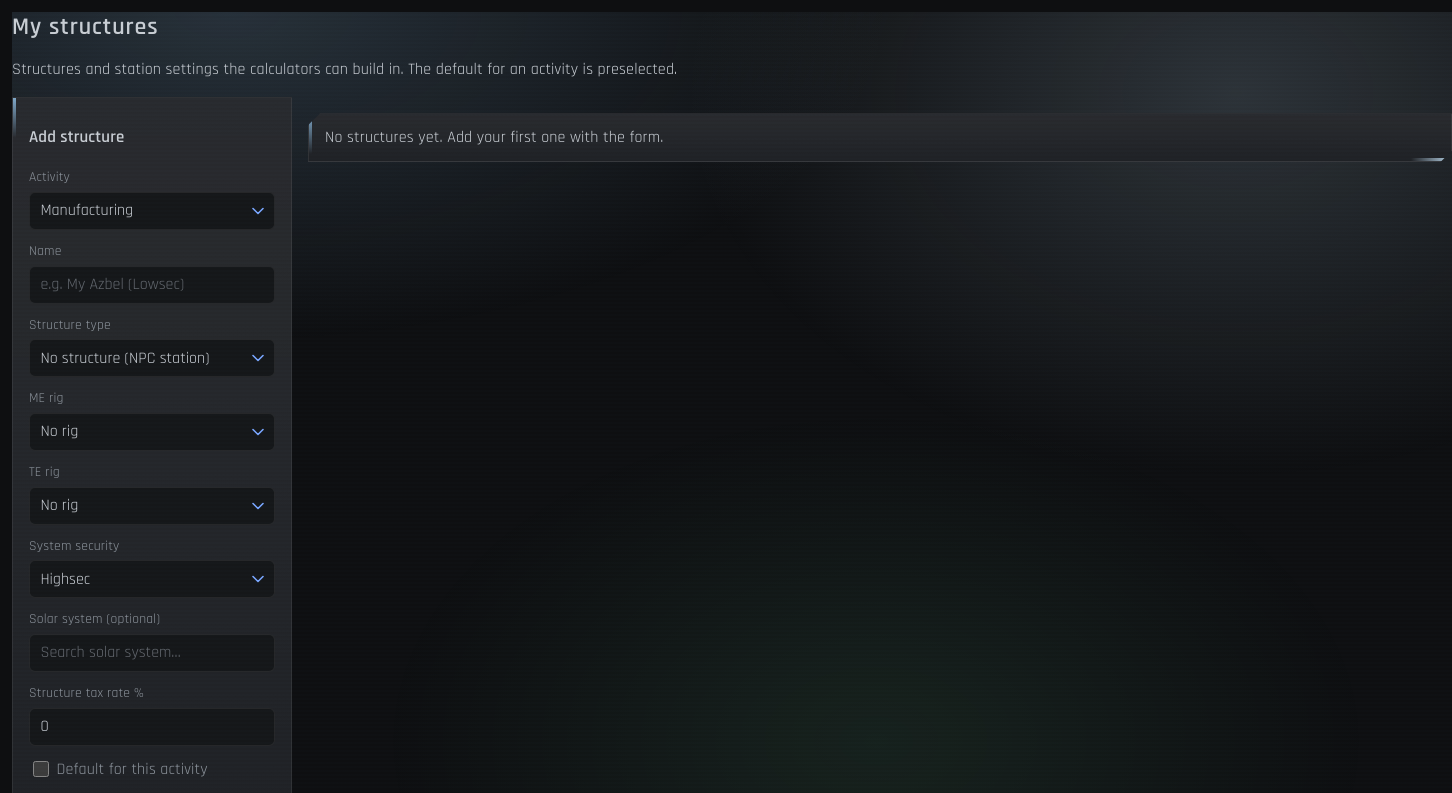
Test case: Structures › swaps to refineries for reactions and posts the new structure
Later steps or results of the test are not shown.
Expected: the text "No structures yet. Add your first one with the form." is shown, [308, 113, 1451, 162]
Select "Reaction" in the dropdown labelled "Activity" at (152, 211), box [29, 192, 275, 230]
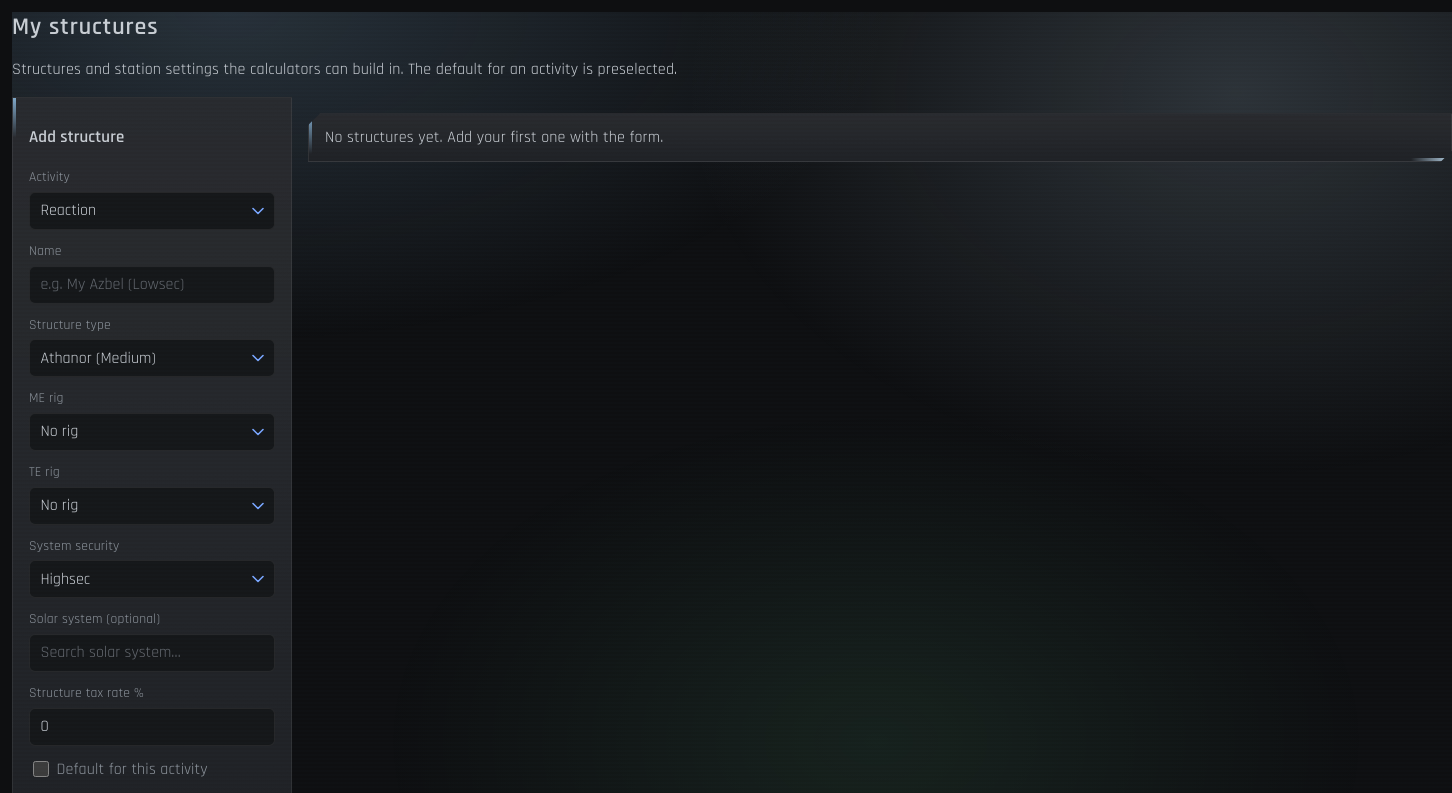
Expected: the dropdown labelled "Structure type" shows "Athanor (Medium)", [29, 339, 275, 377]
